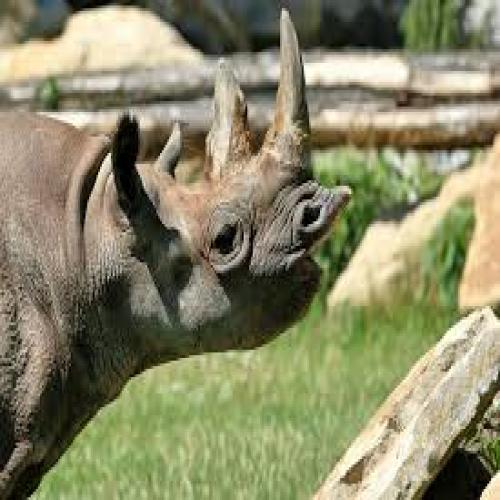rhino-endangered: (0, 28, 335, 499)
